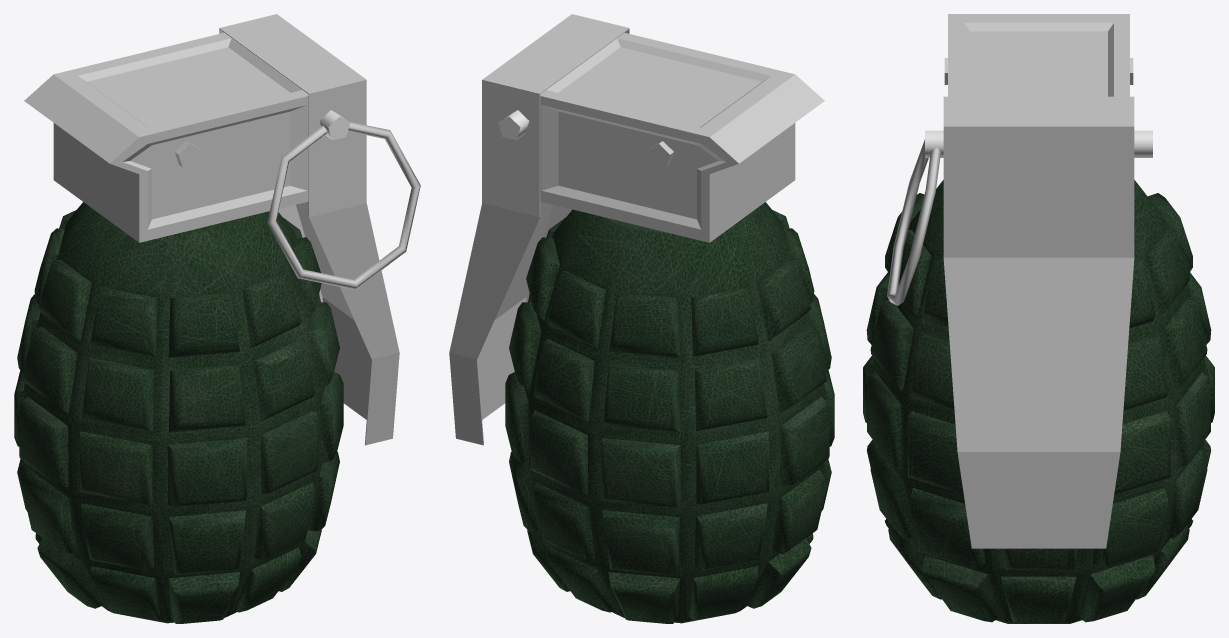
Rendered from Grenade.fbx.
3 views of the same model, side by side, from view 1: azimuth 30°, elevation 25°; view 2: azimuth 150°, elevation 25°; view 3: azimuth 270°, elevation 25° (orthographic). The views are drawn at different scales.
Visible parts, largest first — view 1: 円柱, 立方体.001, 円, 円柱.002; view 2: 円柱, 立方体.001, 円柱.002; view 3: 立方体.001, 円柱, 円, 円柱.002.
Part boxes in pixels (x1,y1,x2,y2): 円柱: (14, 202, 343, 623); 立方体.001: (24, 14, 399, 445); 円: (267, 122, 420, 289); 円柱.002: (319, 110, 350, 139); 円柱: (505, 202, 834, 623); 立方体.001: (449, 14, 824, 445); 円柱.002: (498, 110, 529, 140); 立方体.001: (943, 14, 1134, 548); 円柱: (863, 180, 1214, 623); 円: (887, 139, 940, 305); 円柱.002: (925, 130, 1152, 157).
Size of the model in its own units: 315 by 460 by 276.
